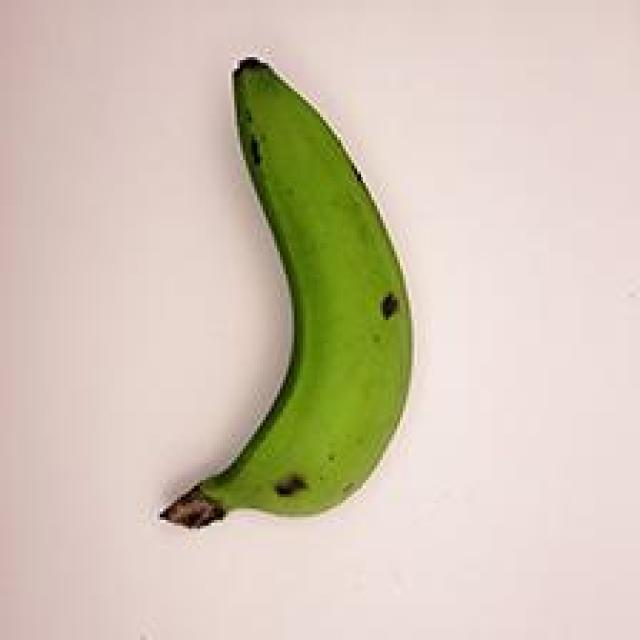Raw: (144, 39, 436, 542)
